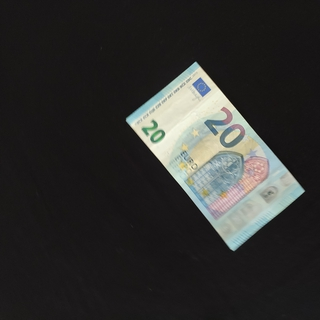20EUROFront: (125, 60, 306, 251)
